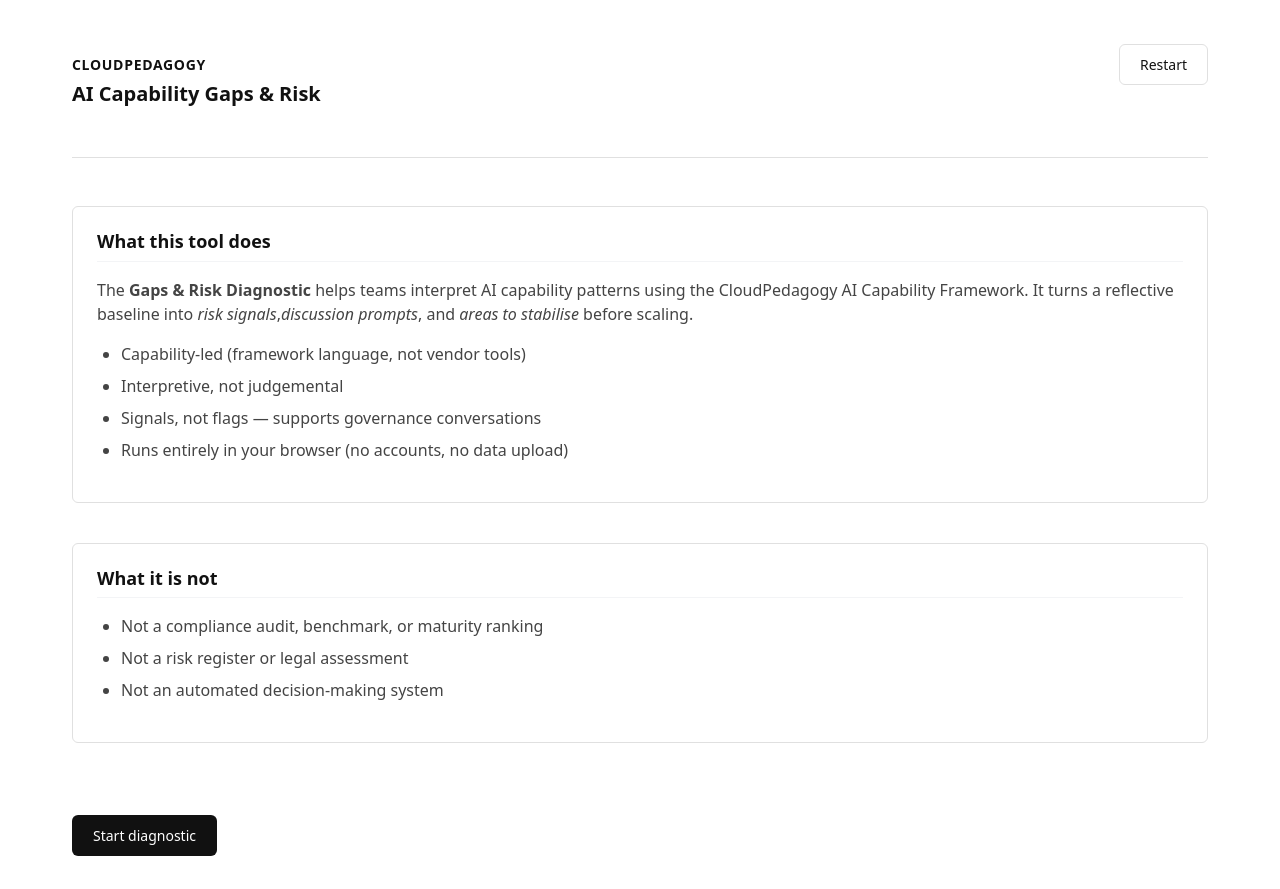
Test: Application End-to-End Workflow & Navigation › preserves user inputs when clicking Back from ResultsView to DiagnosticView
// Start diagnostic
Click the button "Start diagnostic" at (144, 836), box [72,815,217,856]
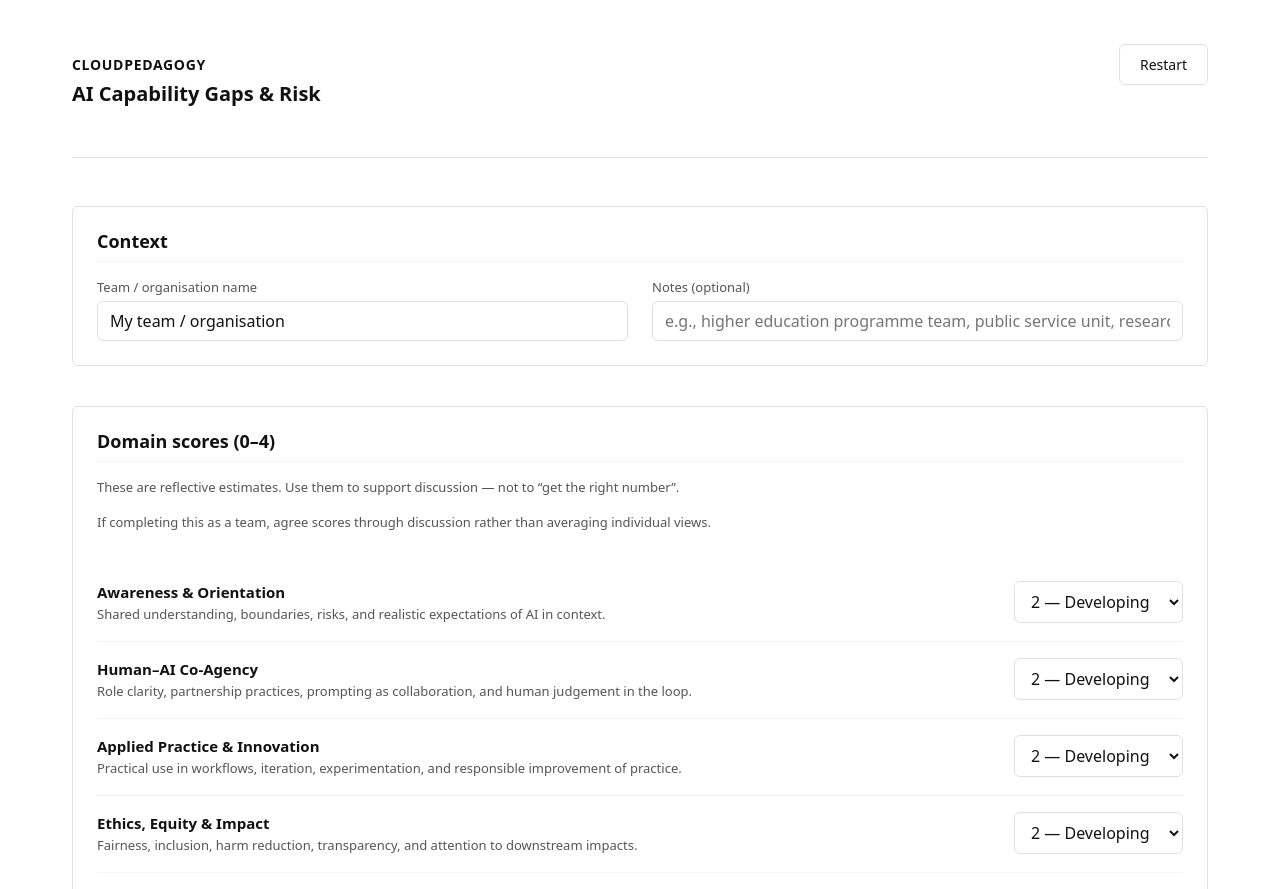
// Change org name
Replace the text in the field showing "My team / organisation" with "Institute of AI" at (362, 321), box [97,301,628,341]
(page scrolled)
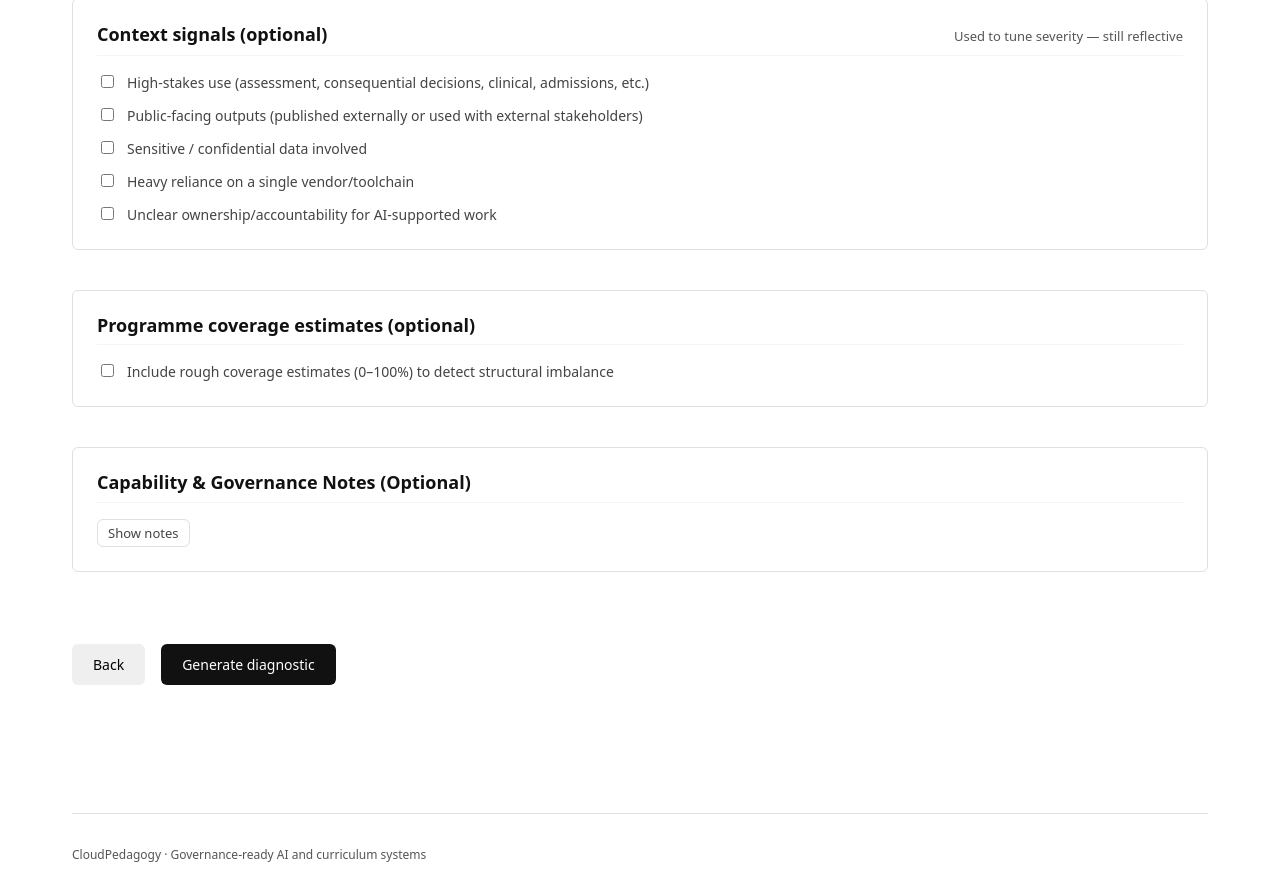
Click the button "Generate diagnostic" at (248, 664), box [161,644,336,685]
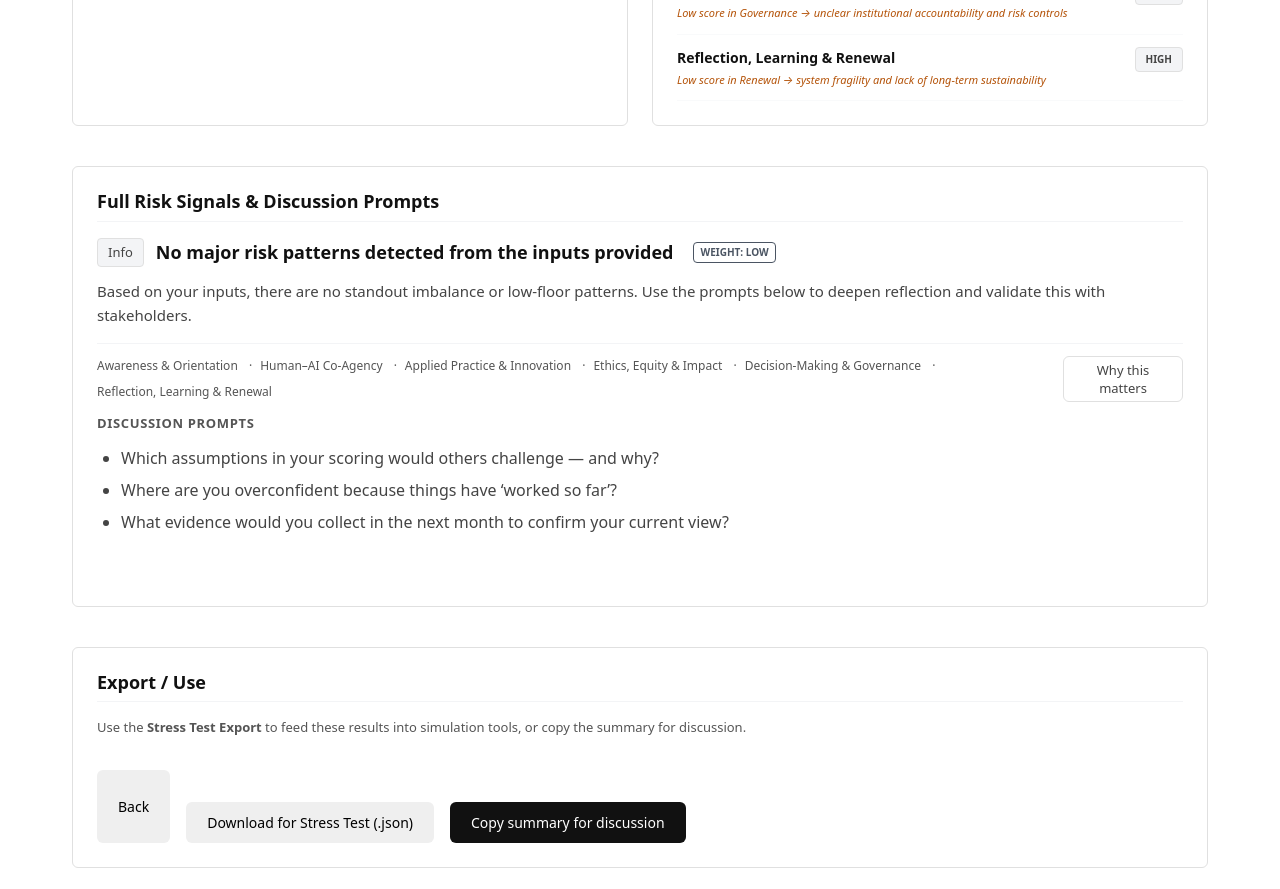
// Click Back from results
Click the button "Back" at (134, 806), box [97,770,170,843]
(page scrolled)
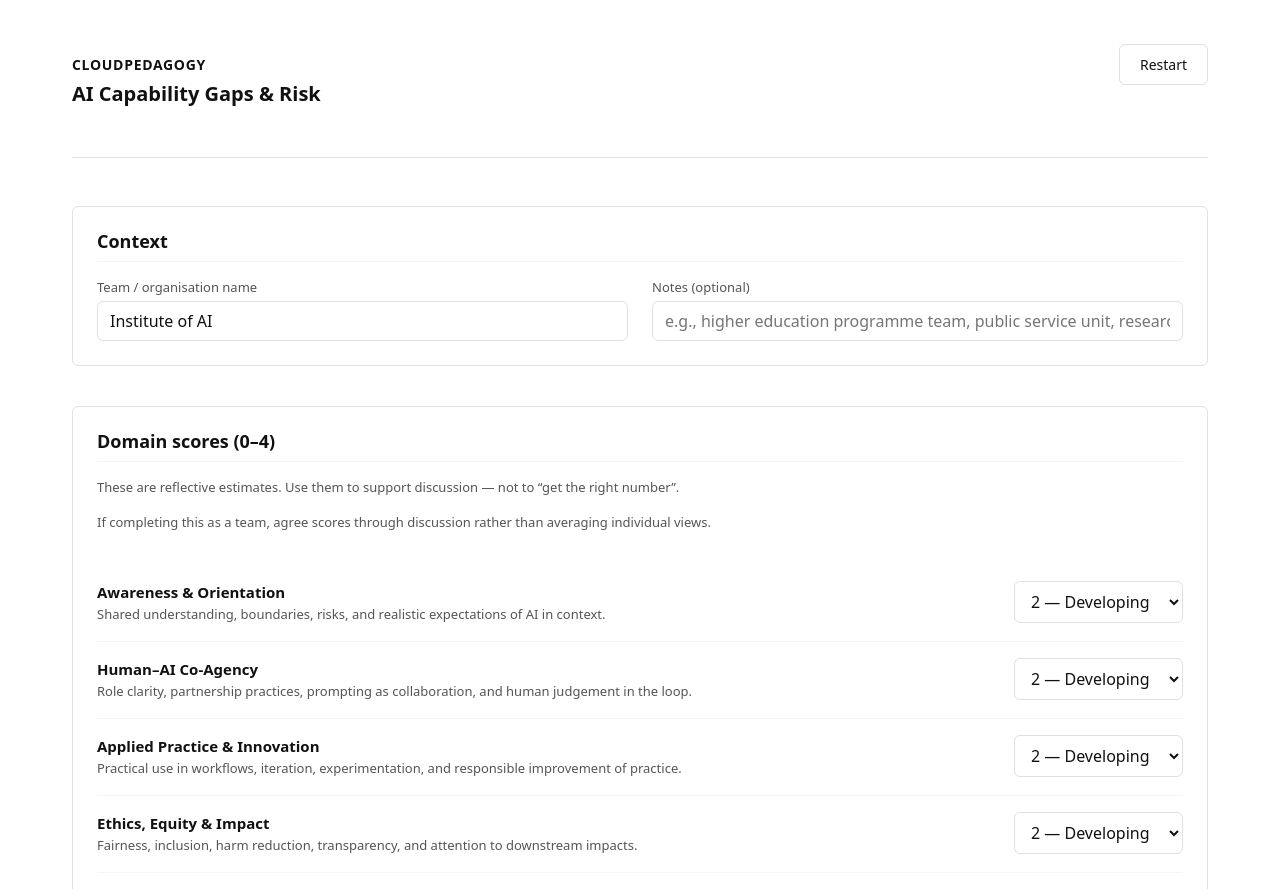
Check: the field showing "Institute of AI" is shown, box [97,301,628,341]
